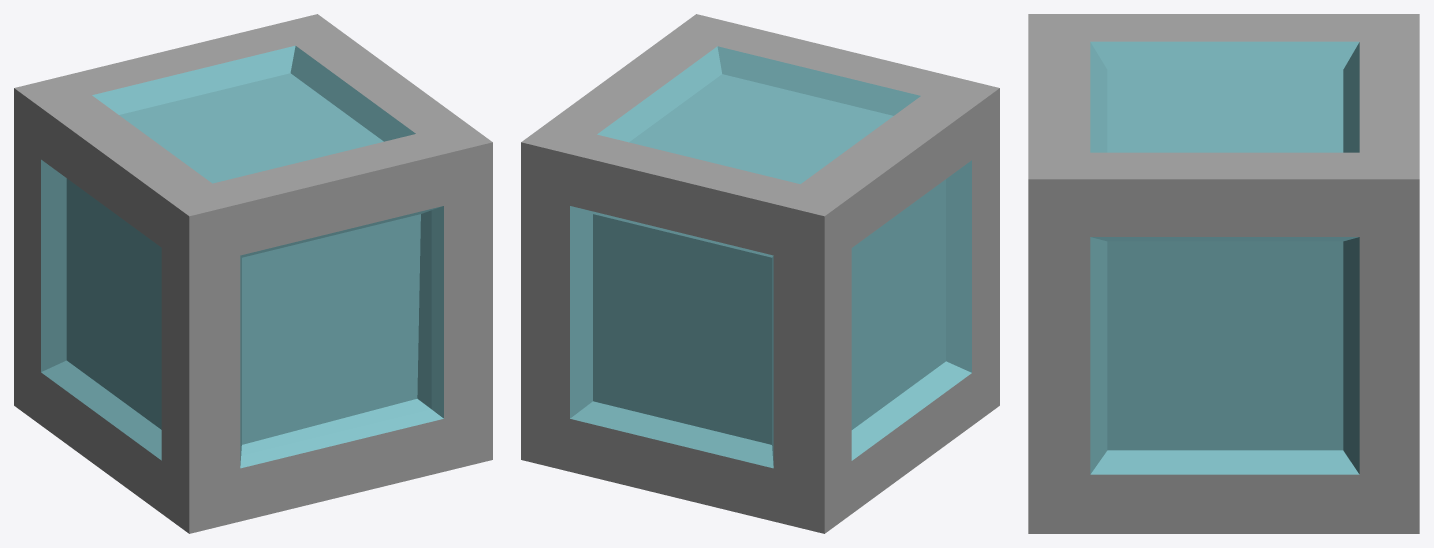
The model's file is MetalBox.fbx.
The picture shows the model from 3 angles, left to right: view 1: azimuth 30°, elevation 25°; view 2: azimuth 150°, elevation 25°; view 3: azimuth 270°, elevation 25°; orthographic projection. The views are drawn at different scales.
Visible parts, largest first — view 1: pCube112; view 2: pCube112; view 3: pCube112.
Boxes of the visible parts, box(x1,y1,x2,y2) form: pCube112: box(14, 14, 492, 533); pCube112: box(521, 14, 999, 533); pCube112: box(1028, 14, 1419, 533).
Bounding box in the file's own units: 1.08 × 1.08 × 1.08.
